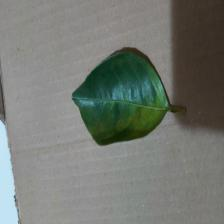greening: (71, 46, 187, 150)
